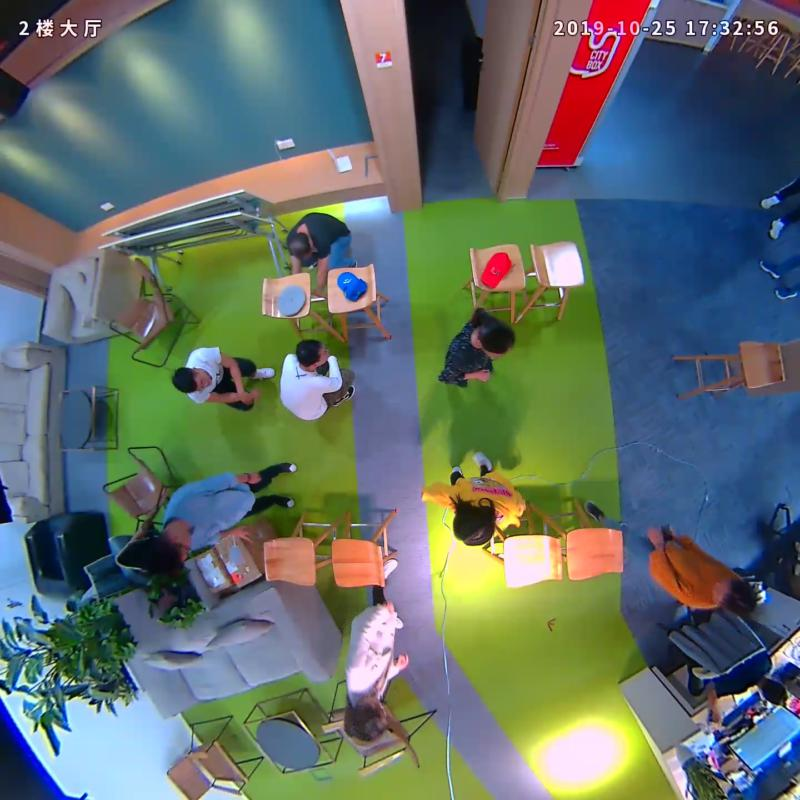head: (131, 521, 194, 577), (335, 693, 394, 752), (442, 494, 497, 555), (464, 312, 522, 359), (161, 357, 222, 401), (709, 576, 757, 619), (292, 336, 333, 376), (282, 227, 318, 257)
